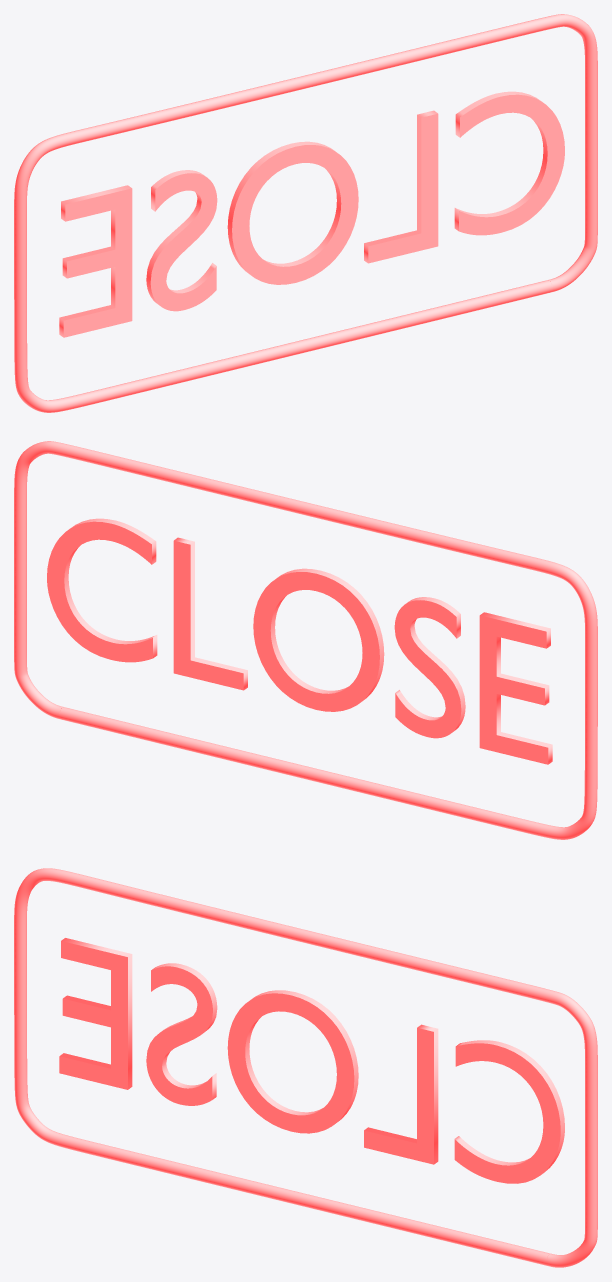
The model's file is close.glb.
3 renders of one model, top to bottom at view 1: azimuth 30°, elevation 25°; view 2: azimuth 150°, elevation 25°; view 3: azimuth 330°, elevation 25°, orthographic.
Parts seen in each view (by area): view 1: Object_8; view 2: Object_8; view 3: Object_8.
Part boxes in pixels (x1=…): Object_8: x1=14, y1=14, x2=597, y2=412; Object_8: x1=14, y1=441, x2=597, y2=839; Object_8: x1=14, y1=868, x2=597, y2=1267.
Bounding box in the file's own units: 4.18 × 1.9 × 0.08.
